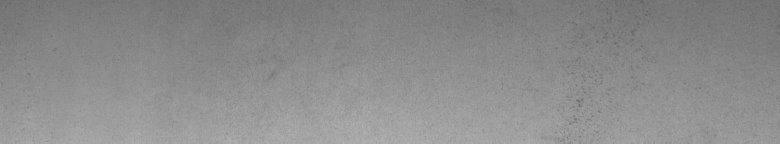ib: (568, 32, 615, 124)
